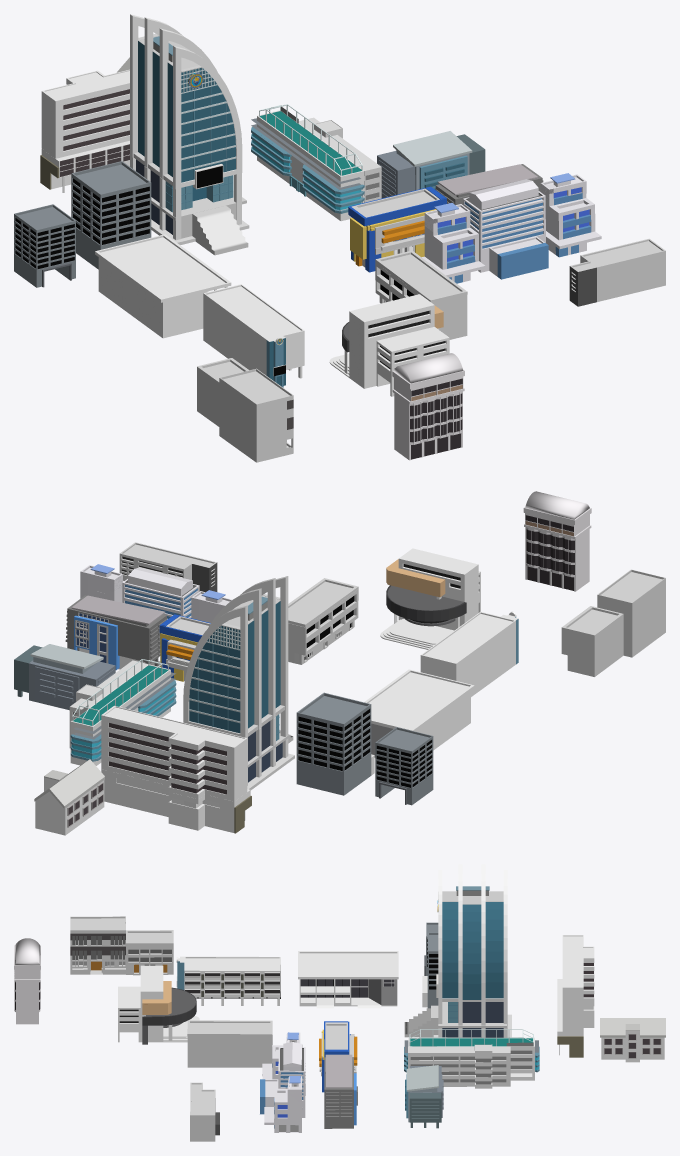
Rendered from Mainscenev2.glb.
The picture shows the model from 3 angles, top to bottom: view 1: azimuth 30°, elevation 25°; view 2: azimuth 150°, elevation 25°; view 3: azimuth 270°, elevation 25°; orthographic projection. The views are drawn at different scales.
Visible parts, largest first — view 1: Cube.201, Cube.207, Cube.204, Cube.004, Cube.206, Cube.093, Back, Cube.208, Cube.200, Cube.203, Cube.202, Cube.205 (+26 smaller); view 2: Cube.093, Cube.207, Cube.206, Cube.004, Cube.199, Cube.201, Back, Cube.208, Cube.204, Cube.202, Cube.205, Cube.096 (+27 smaller); view 3: Cube.004, Cube.207, Cube.202, Cube.201, Cube.204, Cube.093, Cube.193, Front, Cube.199, Back, Cube.208, Cube.203 (+31 smaller).
Boxes of the visible parts, bbox=[...] form: Cube.201: bbox=[422, 173, 601, 283]; Cube.207: bbox=[197, 358, 293, 462]; Cube.204: bbox=[101, 237, 225, 336]; Cube.004: bbox=[138, 41, 235, 182]; Cube.206: bbox=[71, 161, 151, 269]; Cube.093: bbox=[41, 69, 129, 189]; Back: bbox=[203, 284, 304, 375]; Cube.208: bbox=[392, 369, 464, 460]; Cube.200: bbox=[348, 186, 446, 272]; Cube.203: bbox=[569, 238, 665, 306]; Cube.202: bbox=[375, 250, 467, 339]; Cube.205: bbox=[14, 204, 75, 287]; Cube.093: bbox=[101, 705, 250, 832]; Cube.207: bbox=[561, 569, 665, 676]; Cube.206: bbox=[296, 692, 374, 795]; Cube.004: bbox=[189, 601, 280, 733]; Cube.199: bbox=[65, 595, 166, 670]; Cube.201: bbox=[80, 564, 232, 622]; Back: bbox=[420, 611, 515, 696]; Cube.208: bbox=[523, 506, 591, 591]; Cube.204: bbox=[368, 672, 470, 748]; Cube.202: bbox=[288, 578, 358, 664]; Cube.205: bbox=[375, 727, 433, 805]; Cube.096: bbox=[109, 723, 226, 794]; Cube.004: bbox=[442, 902, 503, 999]; Cube.207: bbox=[70, 916, 173, 975]; Cube.202: bbox=[187, 1020, 272, 1067]; Cube.201: bbox=[260, 1032, 305, 1132]; Cube.204: bbox=[299, 953, 397, 997]; Cube.093: bbox=[557, 935, 594, 1036]; Cube.193: bbox=[408, 1044, 510, 1088]; Front: bbox=[184, 972, 280, 997]; Cube.199: bbox=[324, 1054, 357, 1128]; Back: bbox=[184, 956, 280, 990]; Cube.208: bbox=[14, 945, 40, 1024]; Cube.203: bbox=[190, 1082, 219, 1141].
Size of the model in its own units: 24.94 by 10.07 by 37.93.
Materials: 98 (2 with a texture image).
